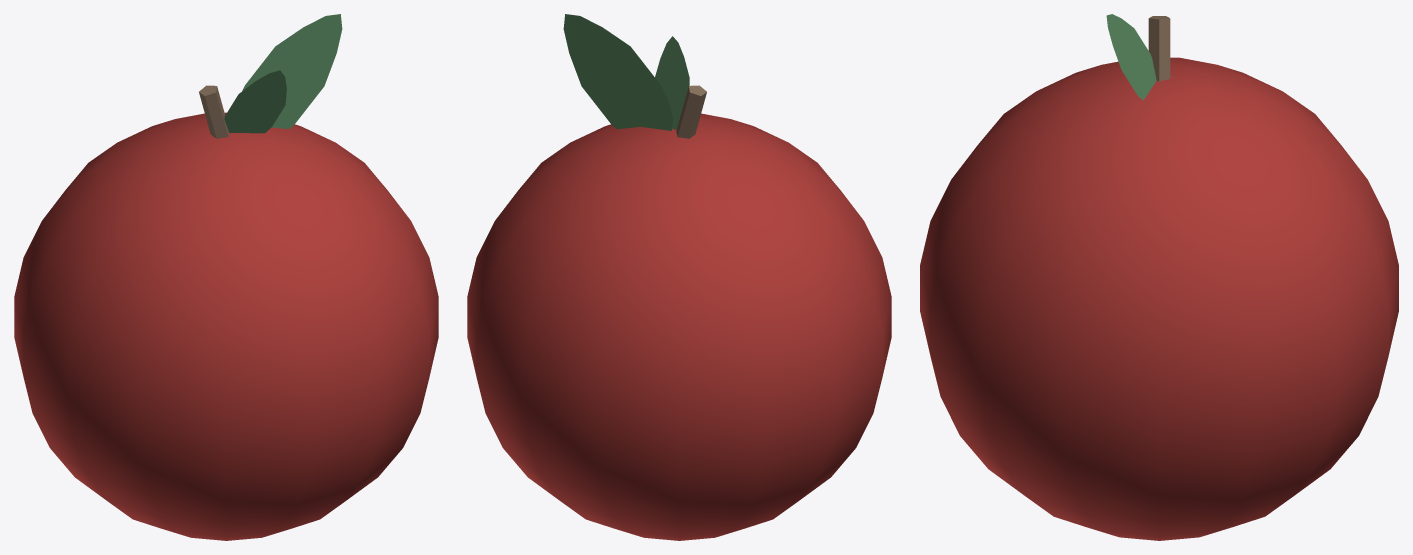
The model's file is Apple.fbx.
3 renders of one model, left to right at view 1: azimuth 30°, elevation 25°; view 2: azimuth 150°, elevation 25°; view 3: azimuth 270°, elevation 25°, orthographic. The views are drawn at different scales.
Parts seen in each view (by area): view 1: Apple, pPlane1, pPlane2, pCylinder4; view 2: Apple, pPlane1, pPlane2, pCylinder4; view 3: Apple, pPlane2, pCylinder4.
Boxes of the visible parts, x1,y1,x2,y2 form: Apple: (14,112,438,540); pPlane1: (242,14,342,128); pPlane2: (224,70,286,133); pCylinder4: (199,85,229,138); Apple: (467,113,891,540); pPlane1: (563,14,673,130); pPlane2: (655,36,689,129); pCylinder4: (676,85,706,138); Apple: (920,57,1398,540); pPlane2: (1106,14,1156,100); pCylinder4: (1148,16,1170,81).
Bounding box in the file's own units: 0.4291 × 0.5393 × 0.4314.
